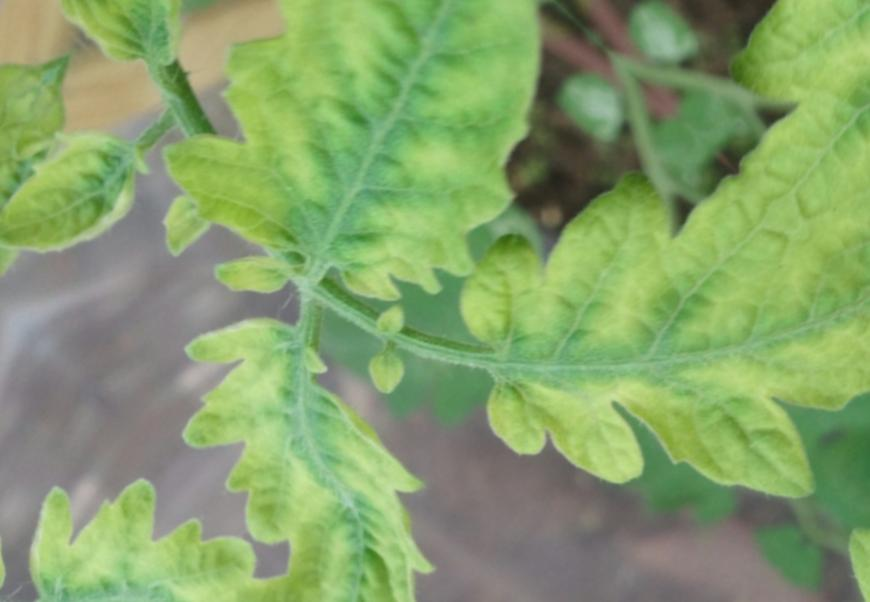Tomato leaf yellow virus: (394, 86, 870, 602), (127, 0, 629, 348), (126, 275, 582, 602), (0, 110, 171, 309), (0, 80, 129, 301)
